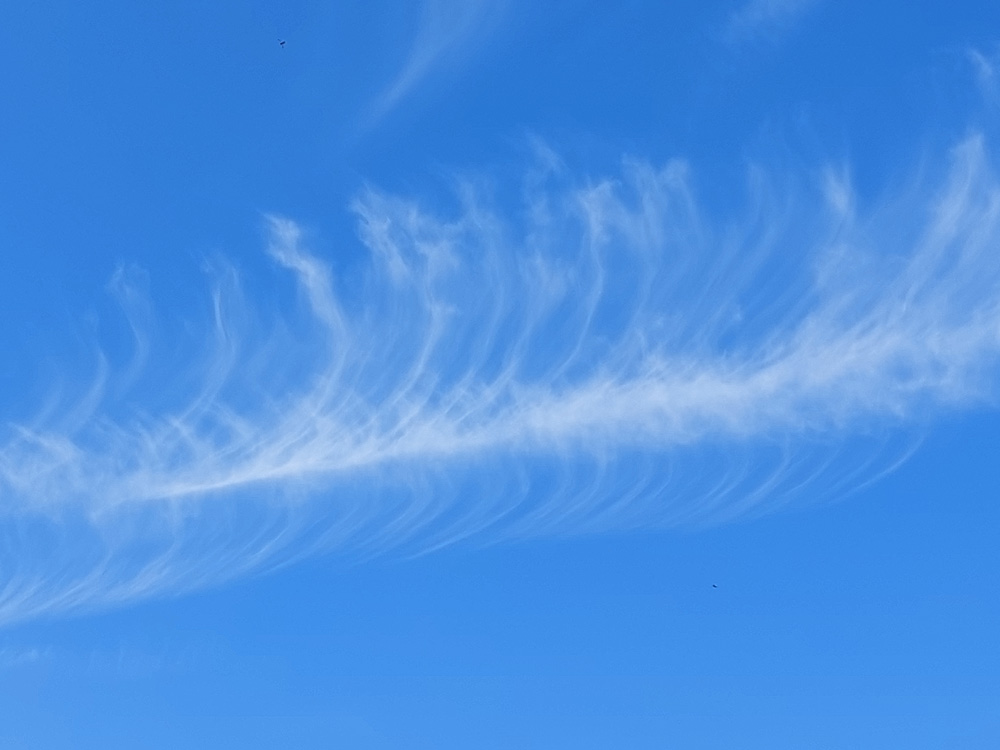Cirrus: (45, 128, 992, 594)
